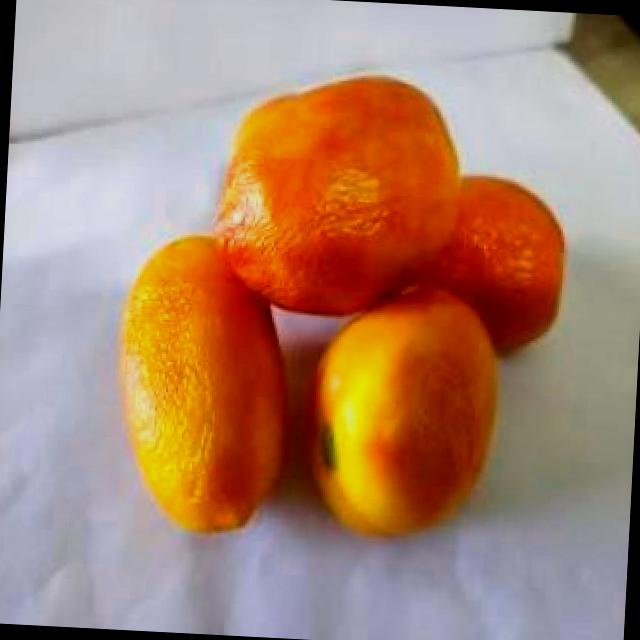Rotten_Tomato: (212, 61, 477, 326), (109, 226, 308, 546), (292, 270, 508, 550), (398, 168, 578, 369)
